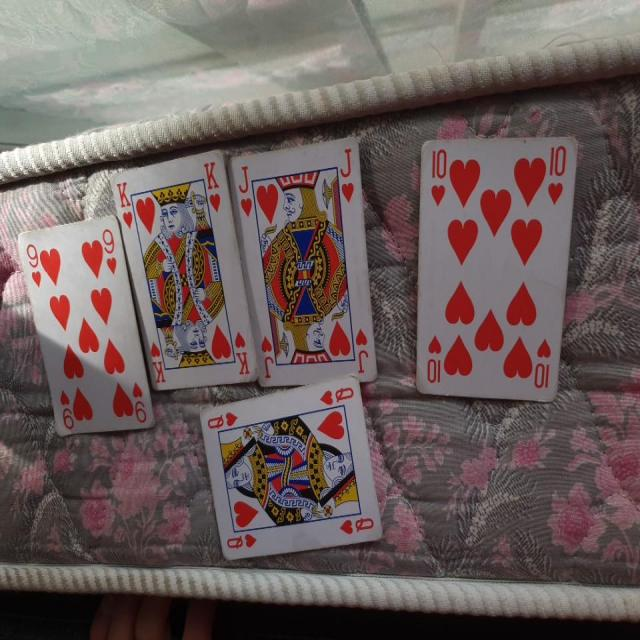10 Hearts: (408, 118, 585, 401)
9 Hearts: (22, 202, 159, 444)
J Hearts: (226, 125, 386, 386)
K Hearts: (106, 145, 265, 395)
Q Hearts: (200, 377, 393, 577)
